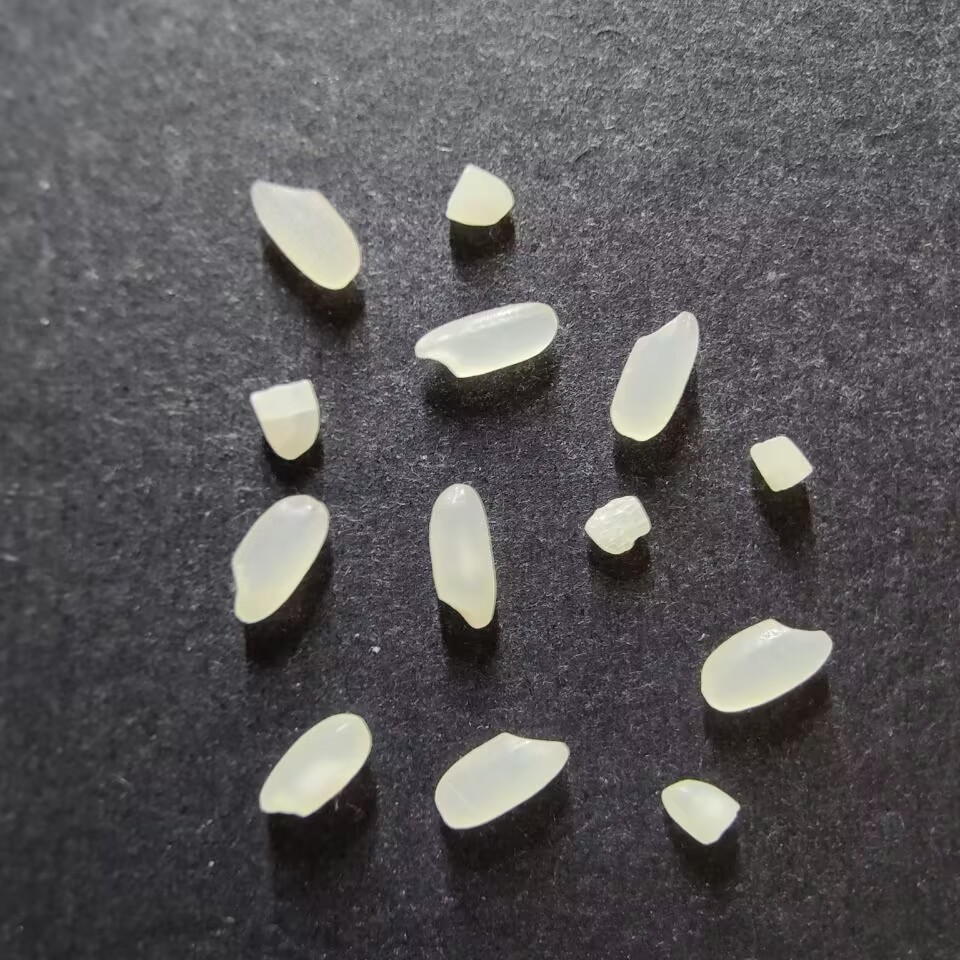broken: (249, 378, 320, 460), (660, 778, 741, 845), (444, 164, 514, 226), (583, 495, 650, 554), (748, 434, 814, 492)
rice: (433, 731, 569, 830), (231, 494, 329, 624), (700, 617, 833, 712), (250, 180, 361, 290), (609, 310, 700, 441), (258, 712, 371, 817), (413, 301, 558, 378), (428, 482, 496, 629)
